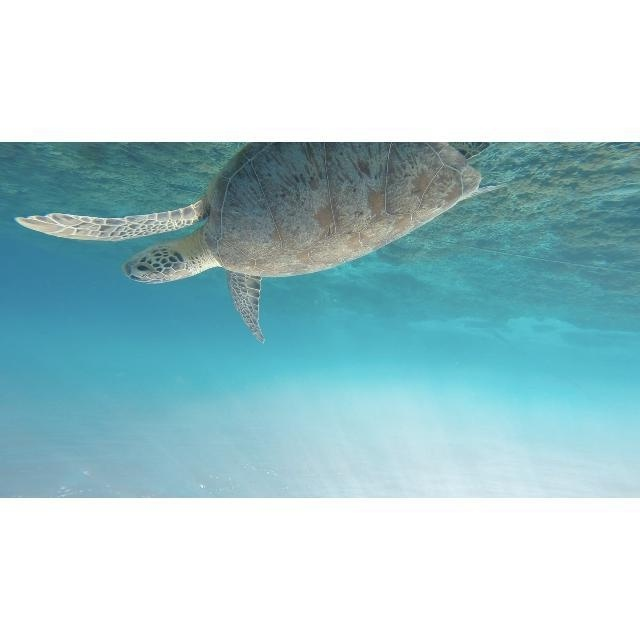turtle: (16, 147, 505, 343)
